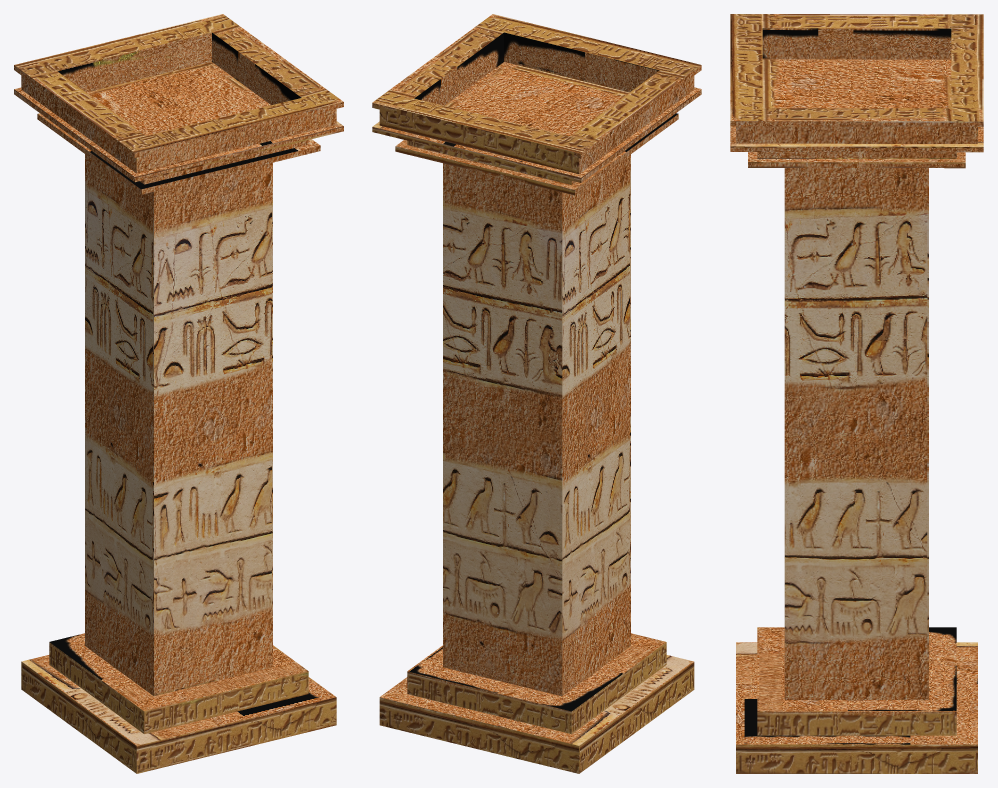
Rendered from Egypt Wall By MK.fbx.
3 views of the same model, side by side, from view 1: azimuth 30°, elevation 25°; view 2: azimuth 150°, elevation 25°; view 3: azimuth 270°, elevation 25° (orthographic). The views are drawn at different scales.
Parts seen in each view (by area): view 1: Cube; view 2: Cube; view 3: Cube.
Boxes of the visible parts, x1=… form: Cube: x1=14, y1=14, x2=343, y2=773; Cube: x1=372, y1=14, x2=701, y2=773; Cube: x1=730, y1=14, x2=983, y2=773.
Size of the model in its own units: 316 by 903 by 317.
